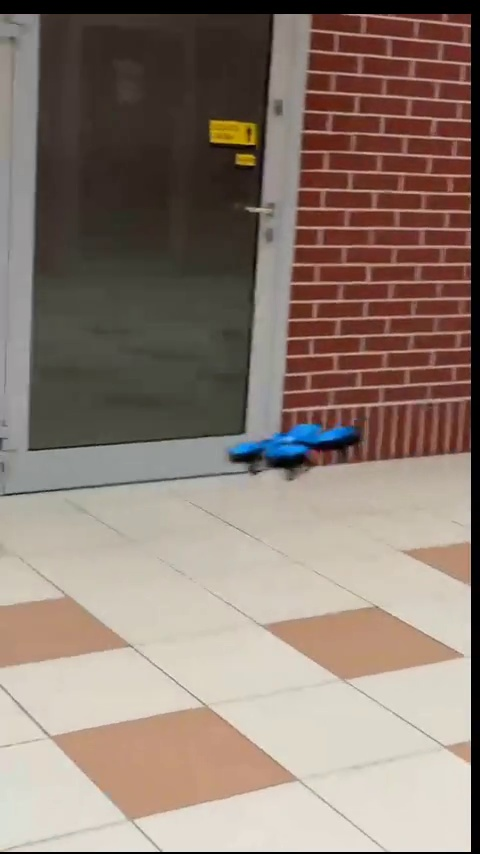drone: (232, 419, 356, 476)
